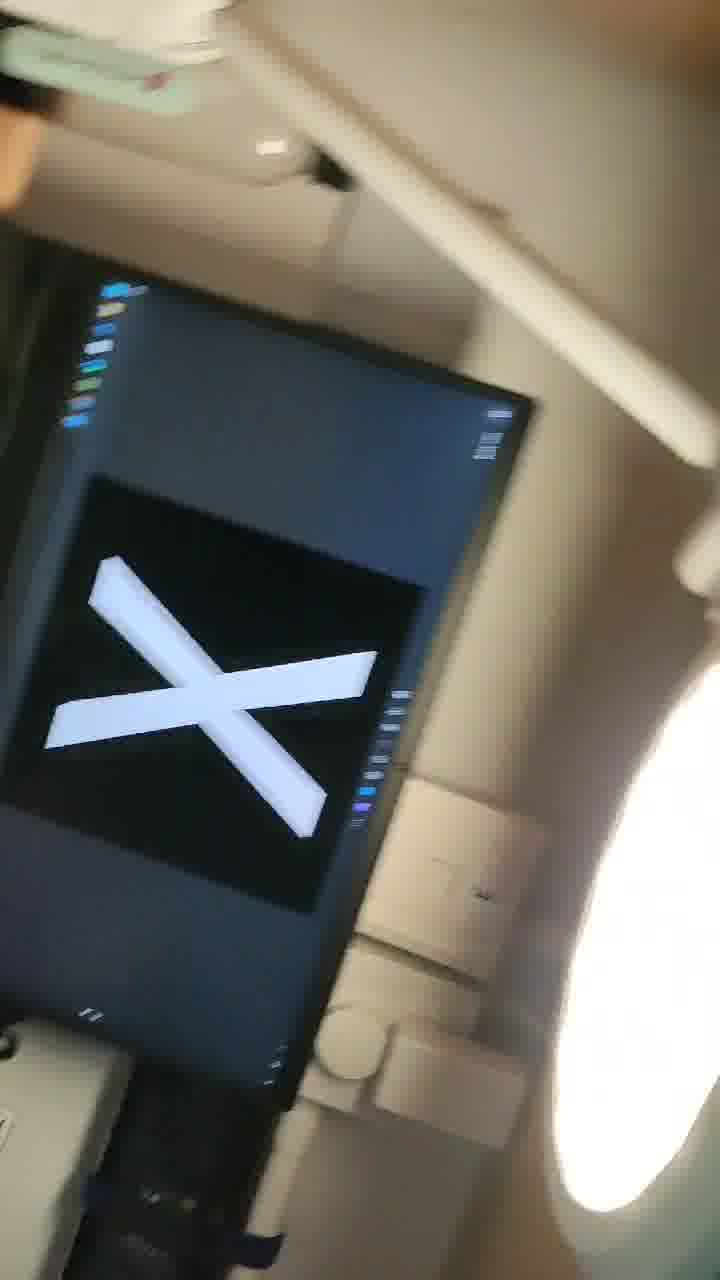X: (26, 515, 405, 921)
